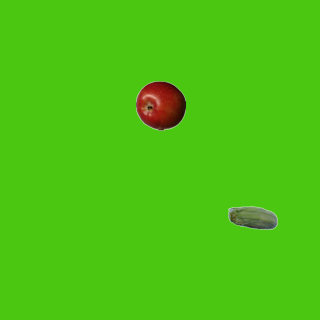Apple Braeburn: (135, 80, 185, 130)
Corn Husk: (227, 194, 277, 244)
